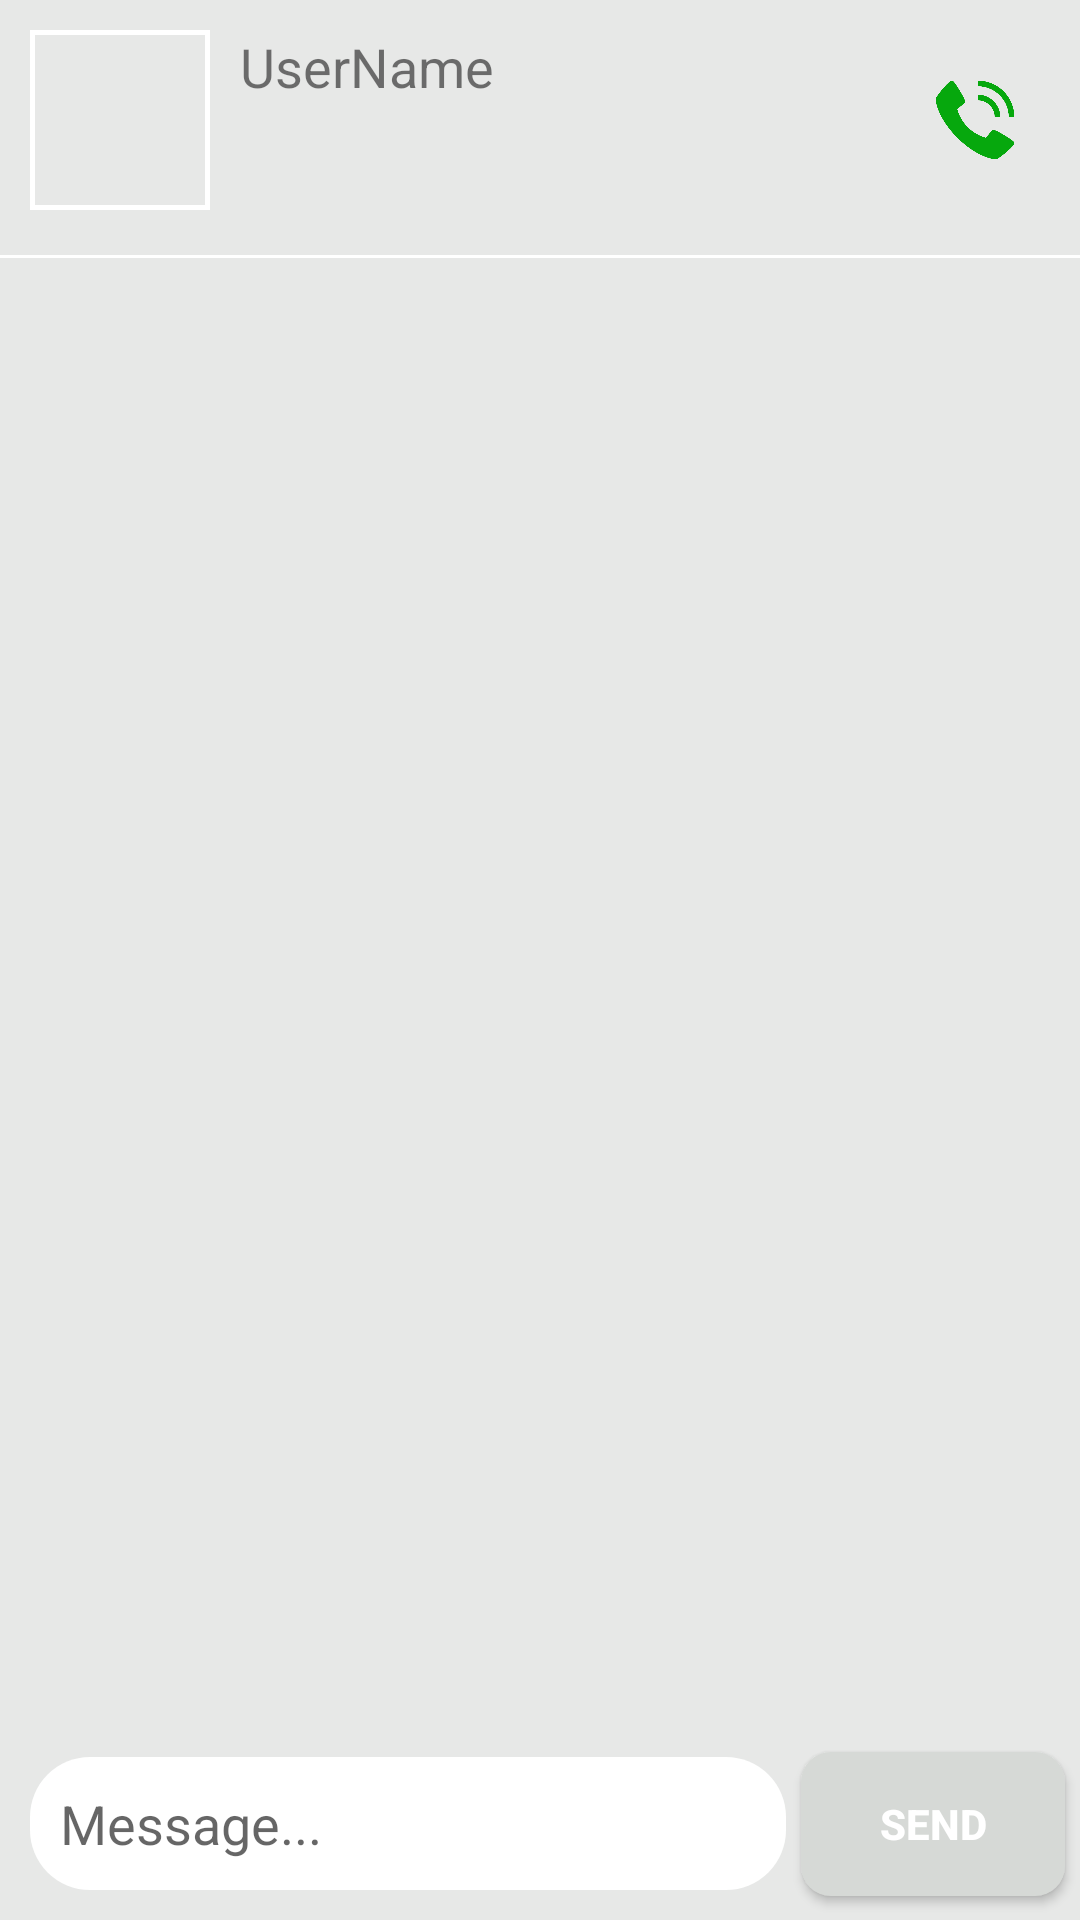

Where to tap for icons on this 1080w x 1920h app screen, as point (x, y):
call: point (975, 120)
